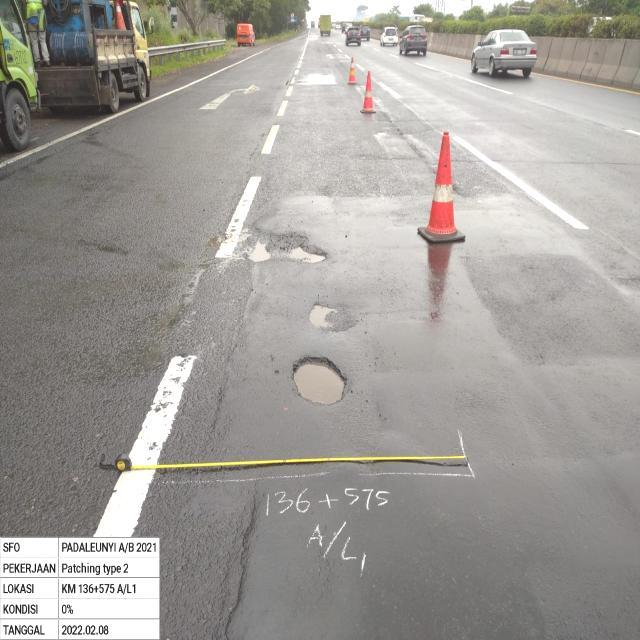Buraco: (238, 220, 332, 266), (288, 353, 352, 408), (306, 302, 341, 332)
